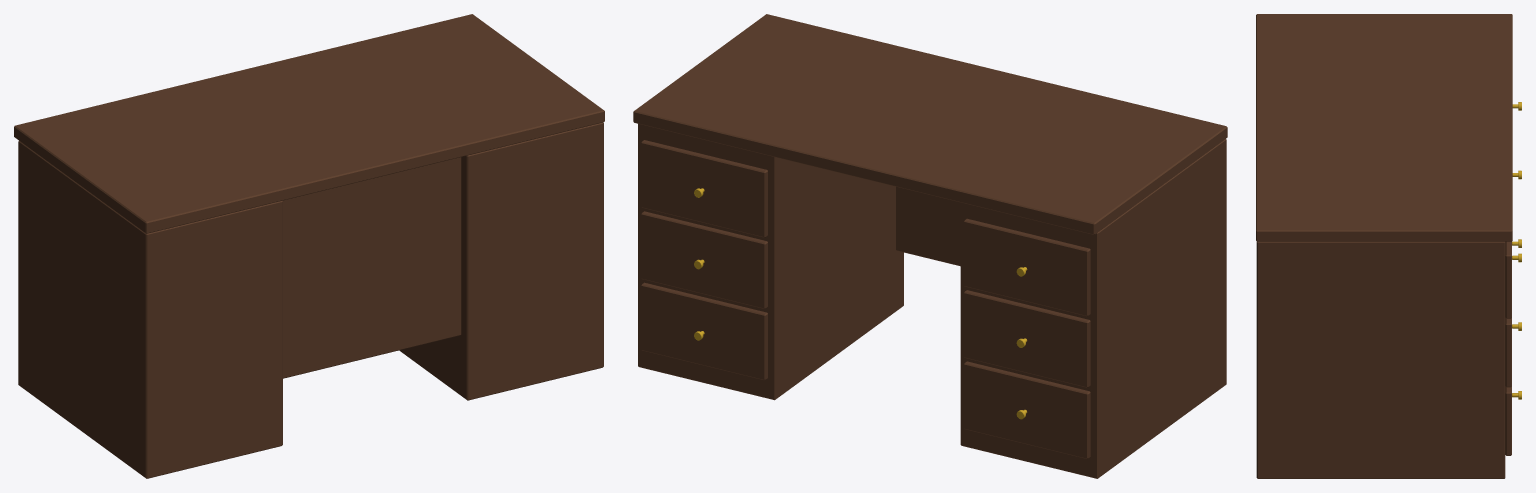
The model's file is prop_of_desk_vault_ops.glb.
3 renders of one model, left to right at view 1: azimuth 30°, elevation 25°; view 2: azimuth 150°, elevation 25°; view 3: azimuth 270°, elevation 25°, orthographic. The views are drawn at different scales.
Visible parts, largest first — view 1: Desk; view 2: Desk; view 3: Desk.
Boxes of the visible parts, box(x1,y1,x2,y2) form: Desk: box(14, 14, 604, 478); Desk: box(633, 14, 1227, 478); Desk: box(1256, 14, 1521, 478).
Size of what is drawn, in the model's own units: 1.4 by 0.75 by 0.725.
